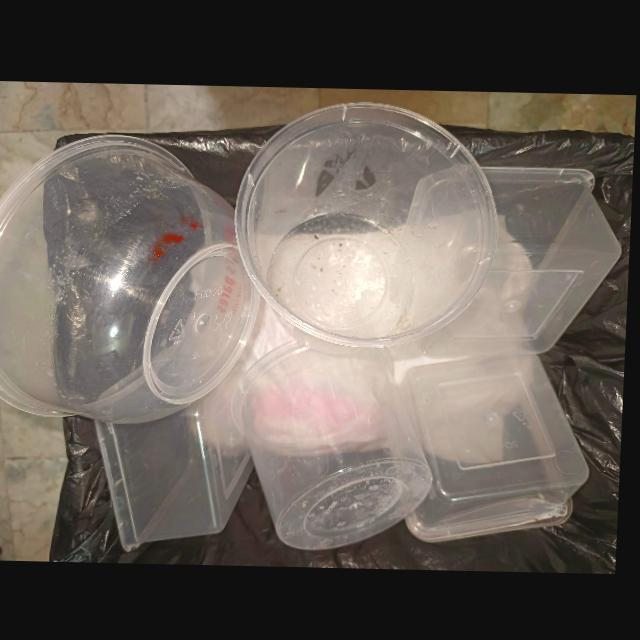plastic: (0, 133, 260, 425), (236, 100, 501, 348), (398, 164, 624, 354), (233, 345, 435, 550), (400, 349, 593, 543), (97, 377, 258, 551)
